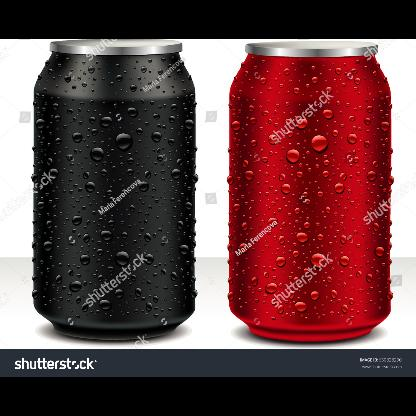Tin_Can: (225, 40, 395, 346), (34, 40, 198, 342)
